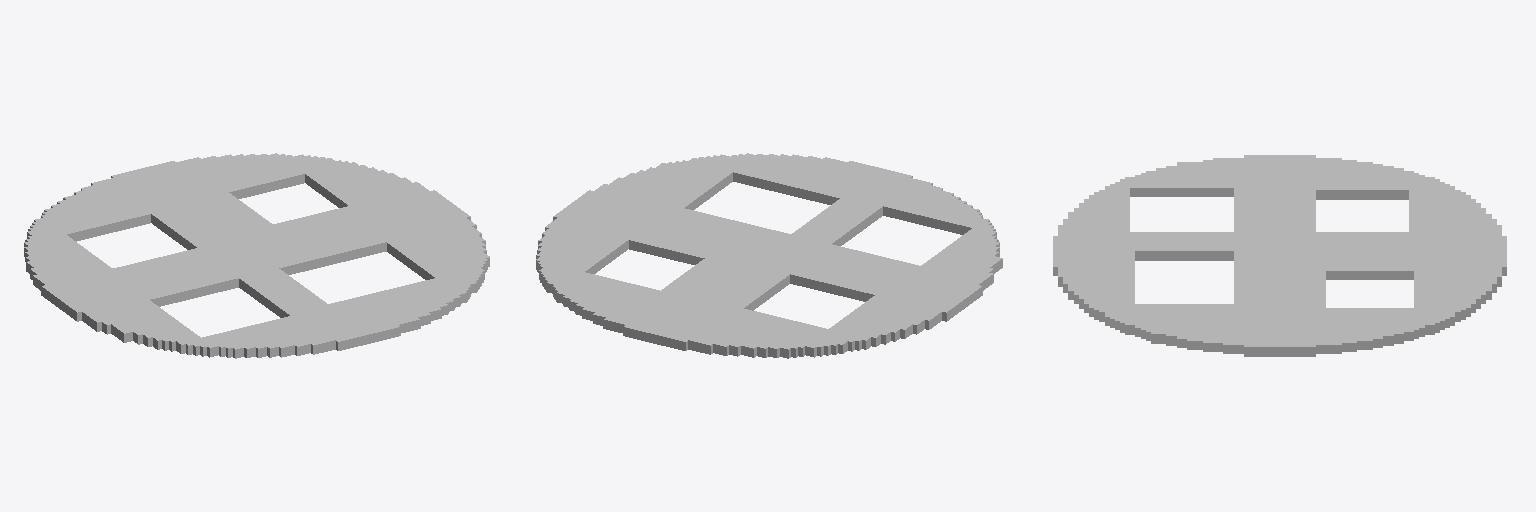
The model's file is 2 лвл-11.obj.
3 views of the same model, side by side, from view 1: azimuth 30°, elevation 25°; view 2: azimuth 150°, elevation 25°; view 3: azimuth 270°, elevation 25° (orthographic).
Parts seen in each view (by area): view 1: object 1; view 2: object 1; view 3: object 1.
Part boxes in pixels (bbox=[...]): object 1: bbox=[24, 153, 489, 358]; object 1: bbox=[536, 153, 1002, 358]; object 1: bbox=[1053, 155, 1506, 356].
Bounding box in the file's own units: 8.8 × 0.2 × 8.8.